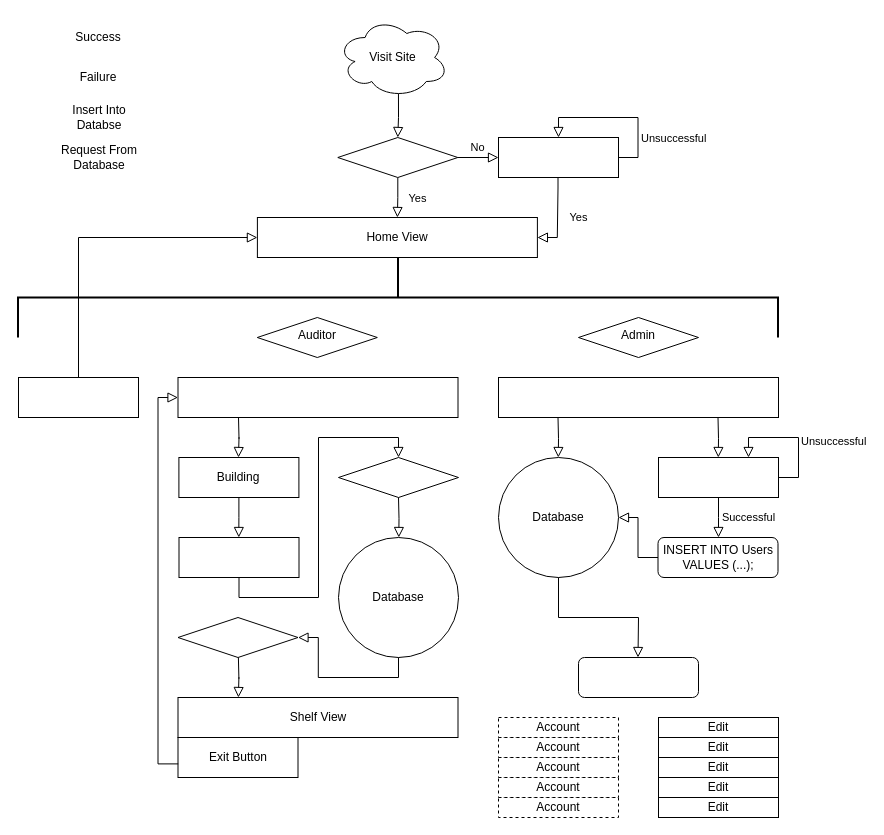
Image size: 884x835. Some labels were removed from this diagram. Here are the shapes that lost their labels. From the top down, the box of each, then its label:
(337, 136, 458, 178): Session?
(498, 136, 618, 178): Login View
(18, 376, 138, 418): Logo Button
(177, 376, 458, 418): Building View
(498, 376, 778, 418): Users View
(338, 456, 458, 498): Shelf ID
(658, 456, 778, 498): Create Account
(178, 536, 299, 578): Shelf
(177, 616, 298, 658): Variants
(578, 656, 698, 698): SELECT * FROM Users;
